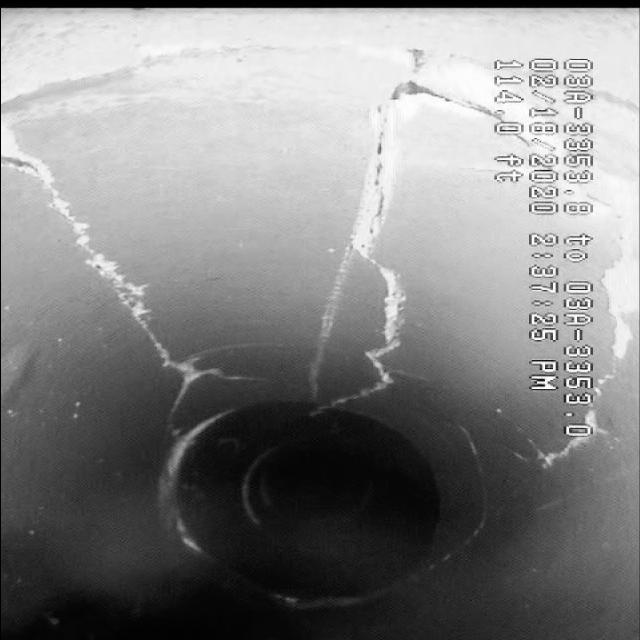Fracture: (312, 110, 452, 390), (47, 152, 200, 390)
